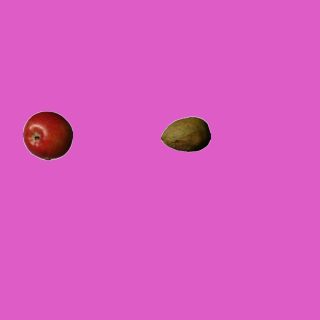Apple Braeburn: (22, 110, 72, 160)
Papaya: (160, 109, 210, 159)
